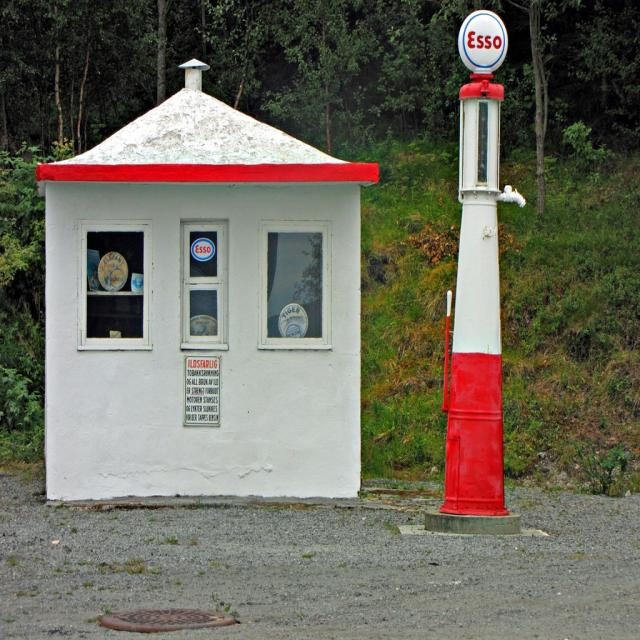esso: (459, 8, 509, 74), (189, 229, 220, 270)
